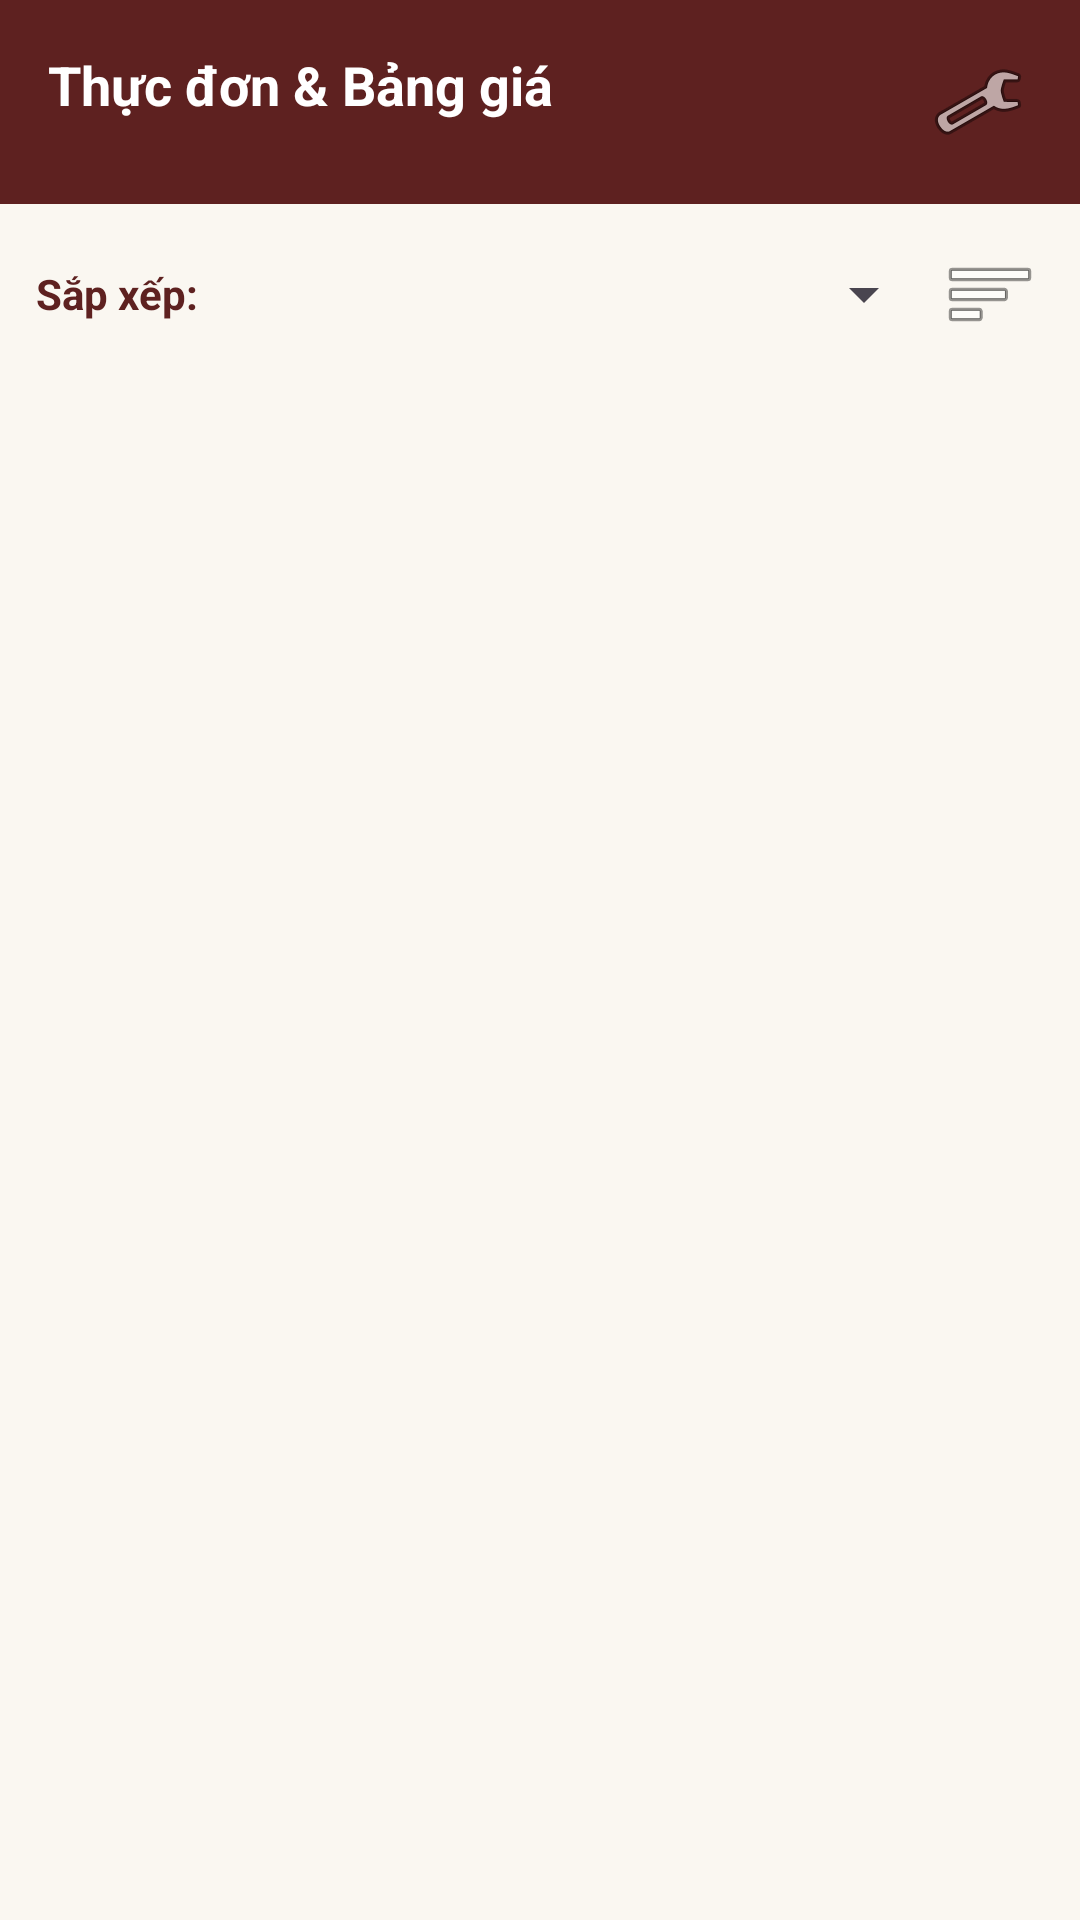

Screen size 1080 × 1920. Icon name, then its center in pixels as (x=x, y=y):
Đảo chiều: (x=990, y=294)
